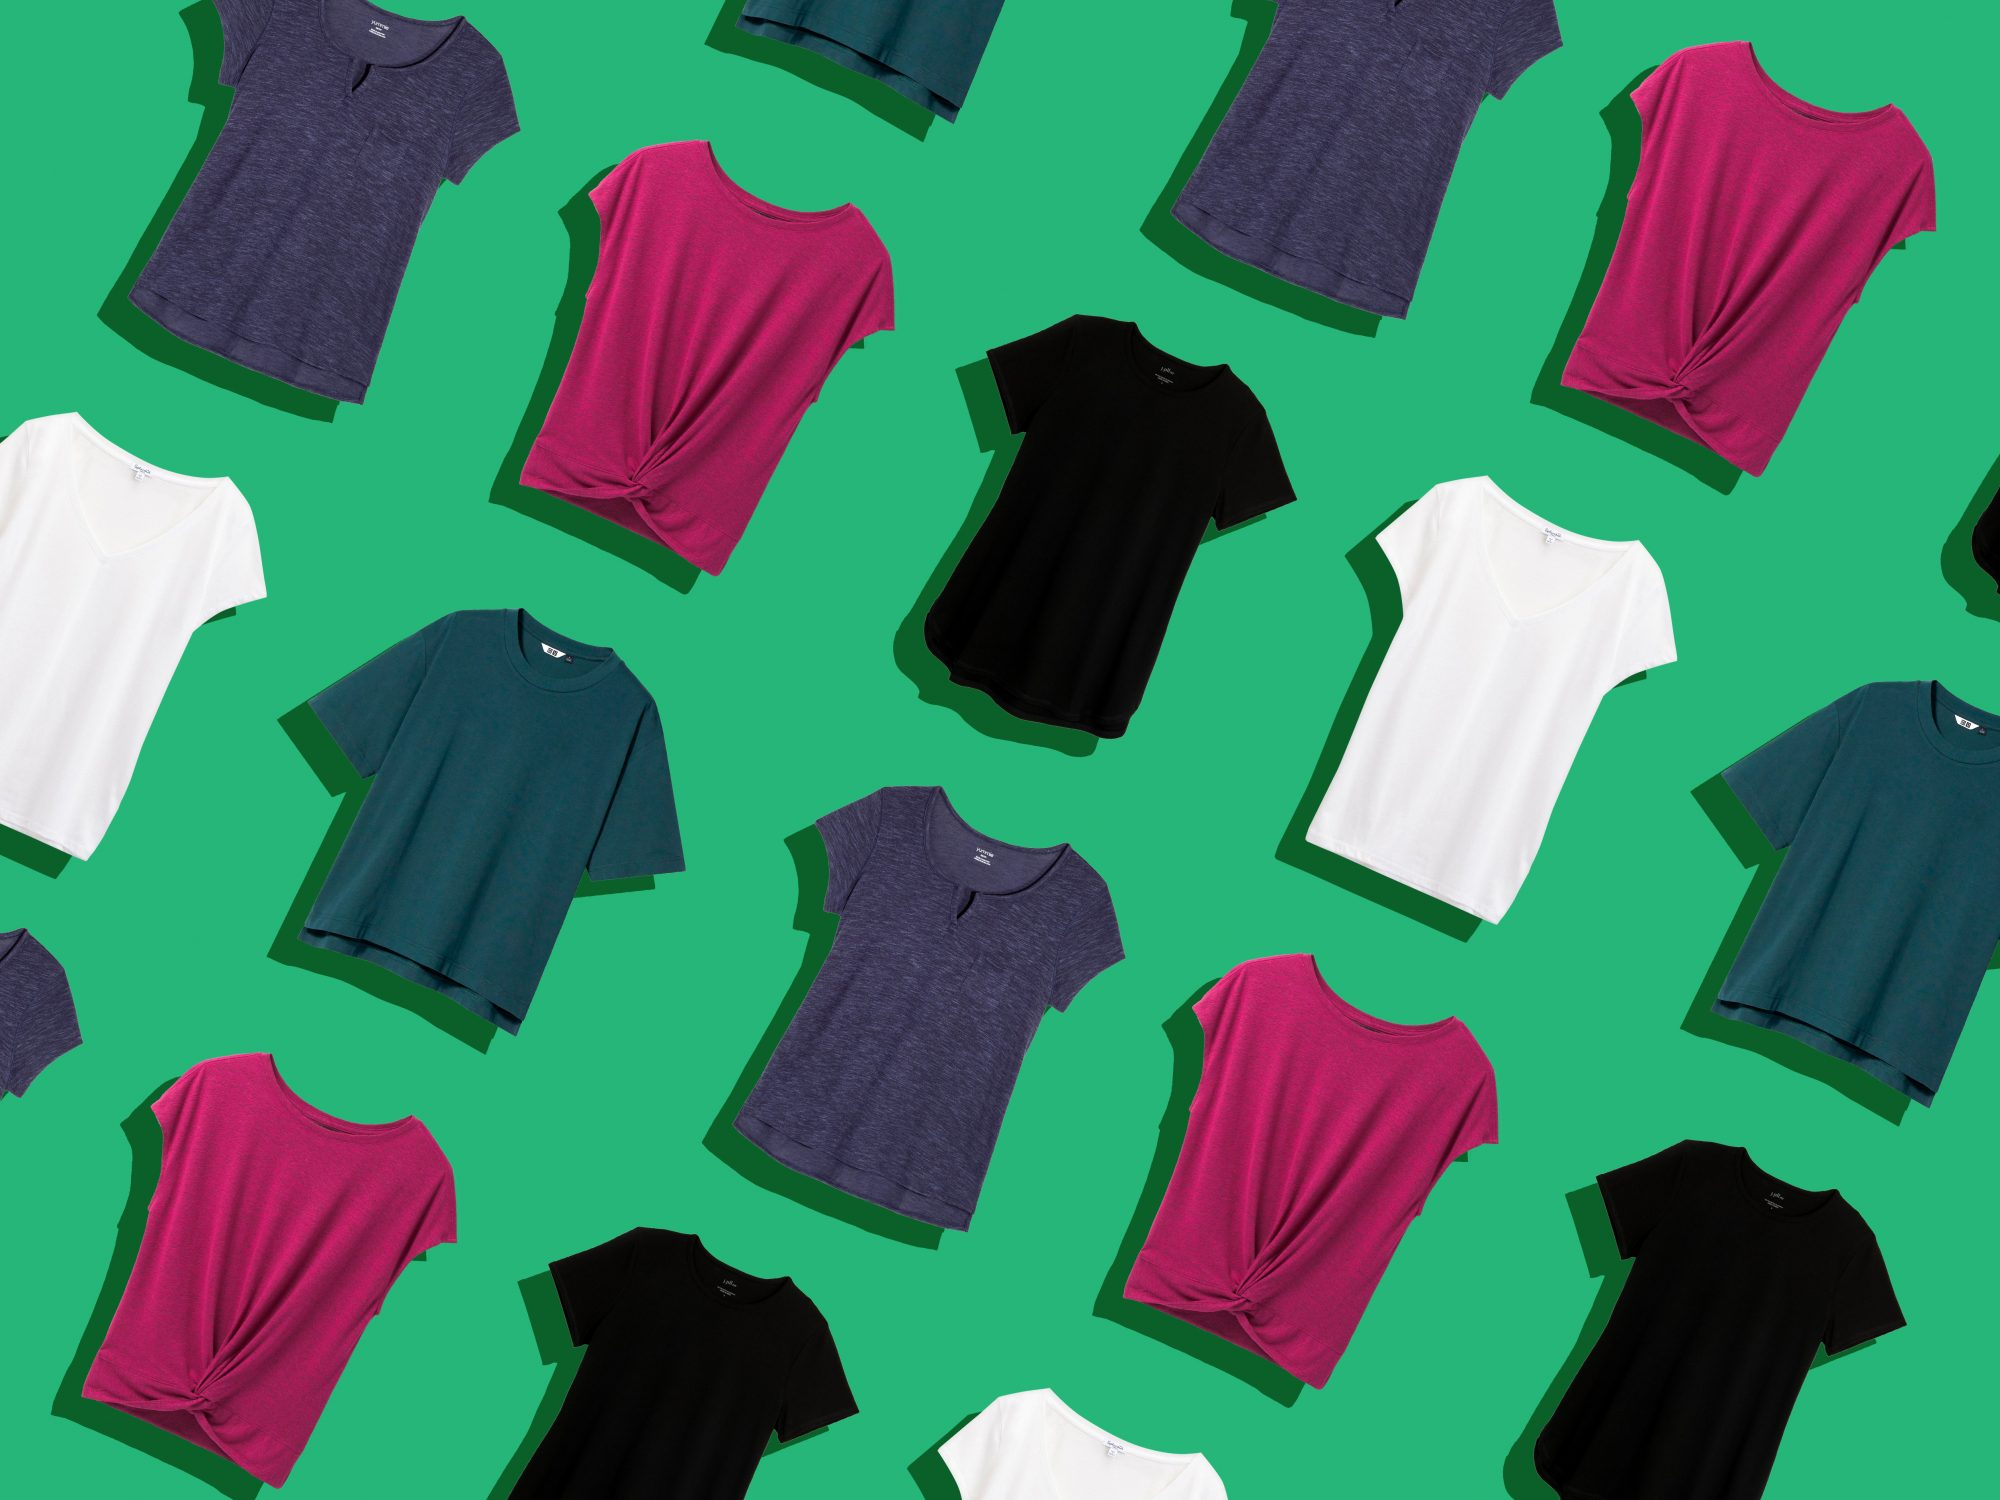blouse: (1124, 937, 1504, 1398), (515, 139, 890, 599), (294, 611, 691, 1041), (79, 1045, 455, 1497), (929, 318, 1321, 739), (1564, 36, 1939, 474), (1306, 476, 1665, 925), (732, 793, 1039, 1231), (148, 9, 469, 418), (1534, 1134, 1880, 1500), (1172, 2, 1562, 317), (2, 403, 269, 860), (1715, 685, 2000, 1106), (515, 1232, 860, 1500), (935, 1390, 1227, 1500), (728, 6, 1002, 118), (5, 937, 85, 1109)
